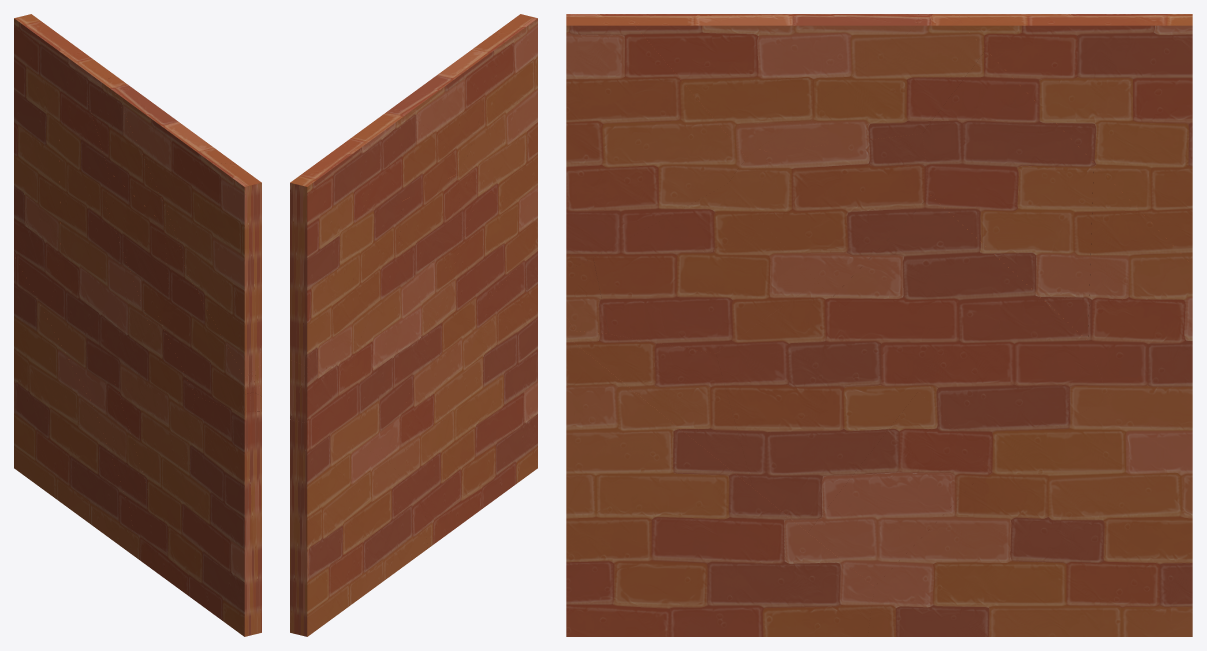
Rendered from Brick_Wall.fbx.
3 views of the same model, side by side, from view 1: azimuth 30°, elevation 25°; view 2: azimuth 150°, elevation 25°; view 3: azimuth 270°, elevation 25° (orthographic). The views are drawn at different scales.
Parts seen in each view (by area): view 1: Brick.001_cell; view 2: Brick.001_cell; view 3: Brick.001_cell.
Boxes of the visible parts, x1,y1,x2,y2 form: Brick.001_cell: (14,14,261,636); Brick.001_cell: (290,14,537,636); Brick.001_cell: (566,14,1192,636).
Size of the model in its own units: 104 by 2574 by 2390.
Materials: 1 (1 with a texture image).
